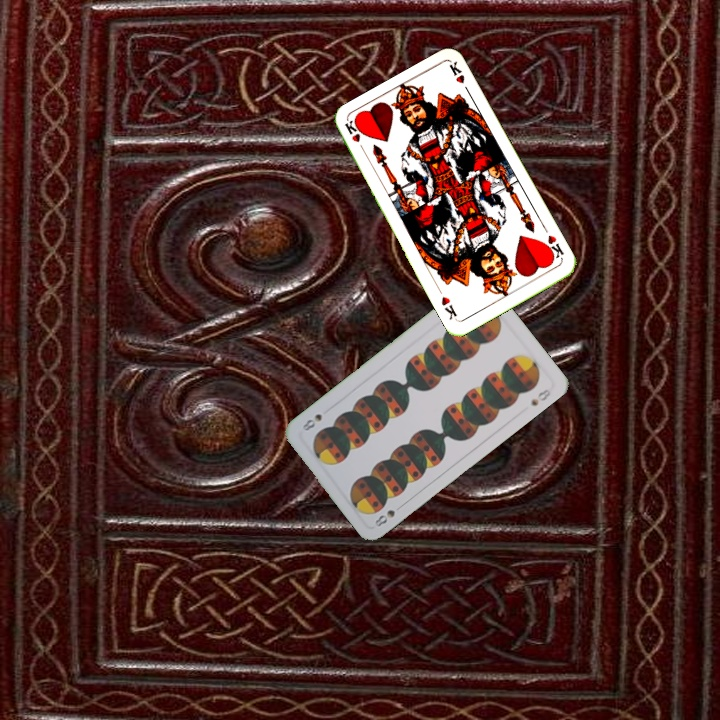HK: (341, 117, 369, 156), (540, 231, 566, 263)
S8: (371, 500, 406, 529)
